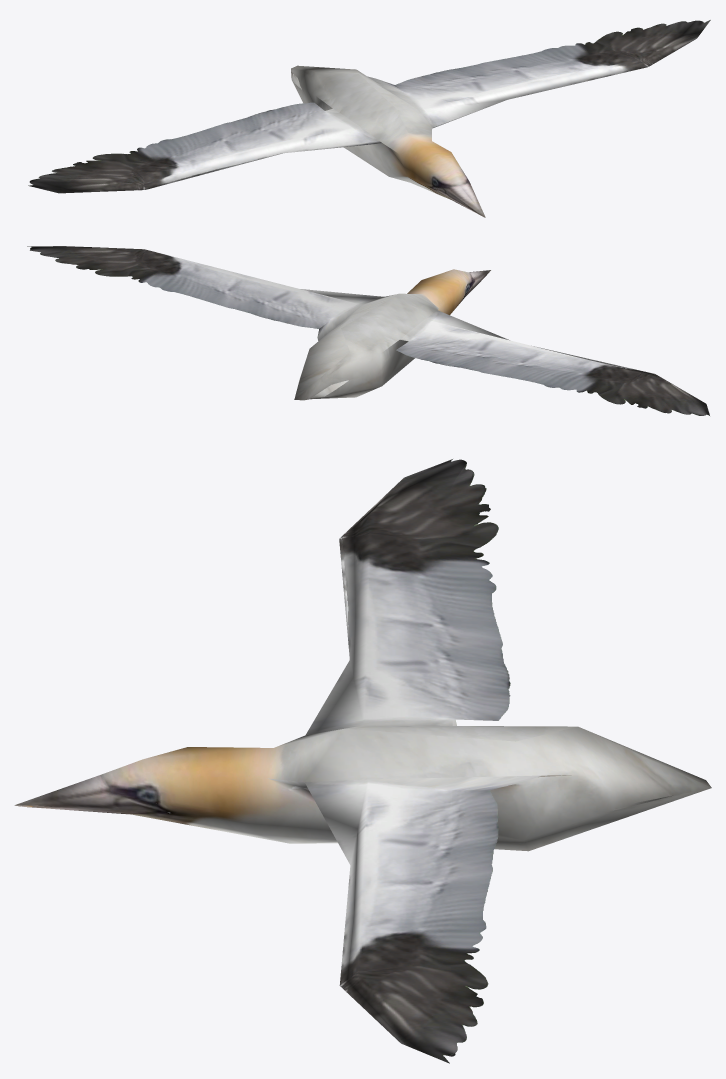
Rendered from booby.fbx.
3 views of the same model, one above another, from view 1: azimuth 30°, elevation 25°; view 2: azimuth 150°, elevation 25°; view 3: azimuth 270°, elevation 25° (orthographic). The views are drawn at different scales.
Visible parts, largest first — view 1: Alcatraz_Geometry; view 2: Alcatraz_Geometry; view 3: Alcatraz_Geometry.
Boxes of the visible parts, bbox=[...] form: Alcatraz_Geometry: bbox=[28, 20, 710, 217]; Alcatraz_Geometry: bbox=[27, 246, 709, 415]; Alcatraz_Geometry: bbox=[14, 459, 711, 1063].
Bounding box in the file's own units: 192 × 17.24 × 92.12.
